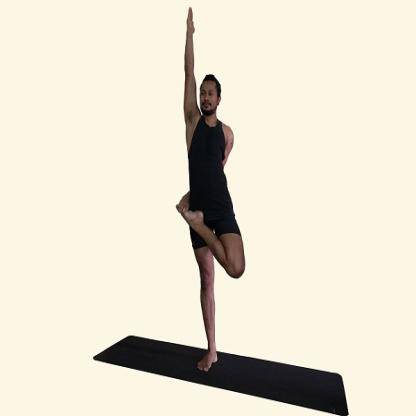tree: (173, 2, 254, 376)
